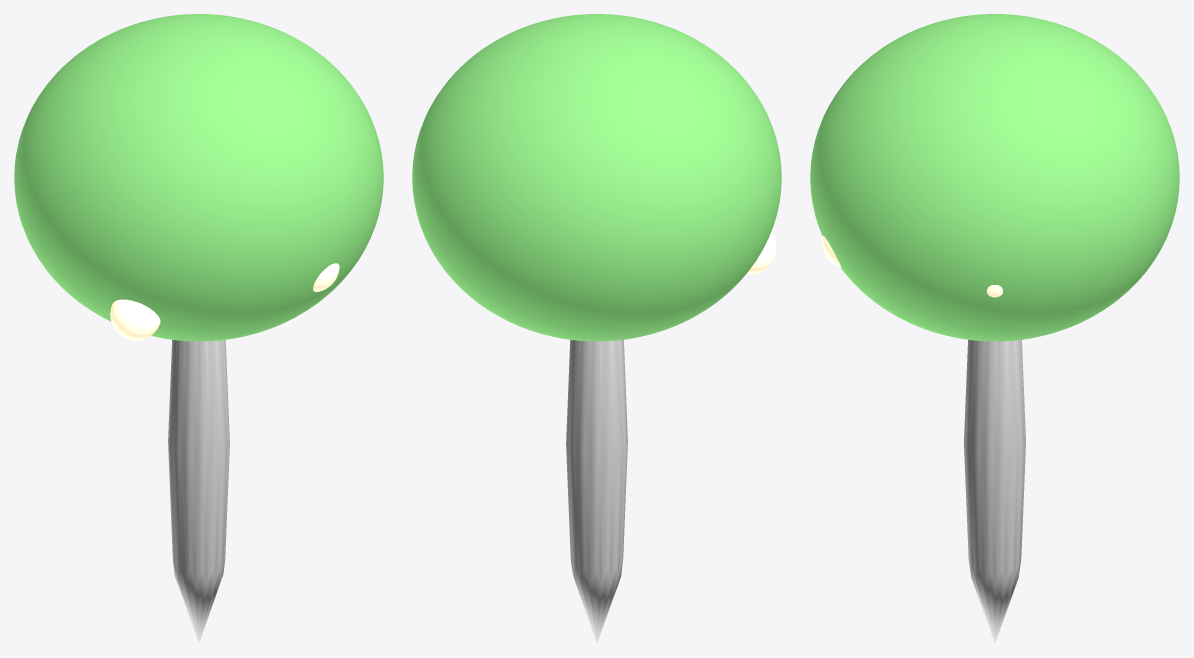
The model's file is farm_tree_peach_v3.glb.
The picture shows the model from 3 angles, left to right: view 1: azimuth 30°, elevation 25°; view 2: azimuth 150°, elevation 25°; view 3: azimuth 270°, elevation 25°; orthographic projection.
Parts seen in each view (by area): view 1: canopy.003, trunk.003, fruit_3.003; view 2: canopy.003, trunk.003, fruit_3.003; view 3: canopy.003, trunk.003.
Part boxes in pixels (<box>): canopy.003: <box>14,14,383,341</box>; trunk.003: <box>168,339,229,643</box>; fruit_3.003: <box>110,299,160,340</box>; canopy.003: <box>412,14,781,341</box>; trunk.003: <box>566,339,627,643</box>; fruit_3.003: <box>746,232,776,274</box>; canopy.003: <box>810,14,1179,341</box>; trunk.003: <box>964,339,1025,643</box>.
Bounding box in the file's own units: 1.08 × 1.96 × 1.08.
